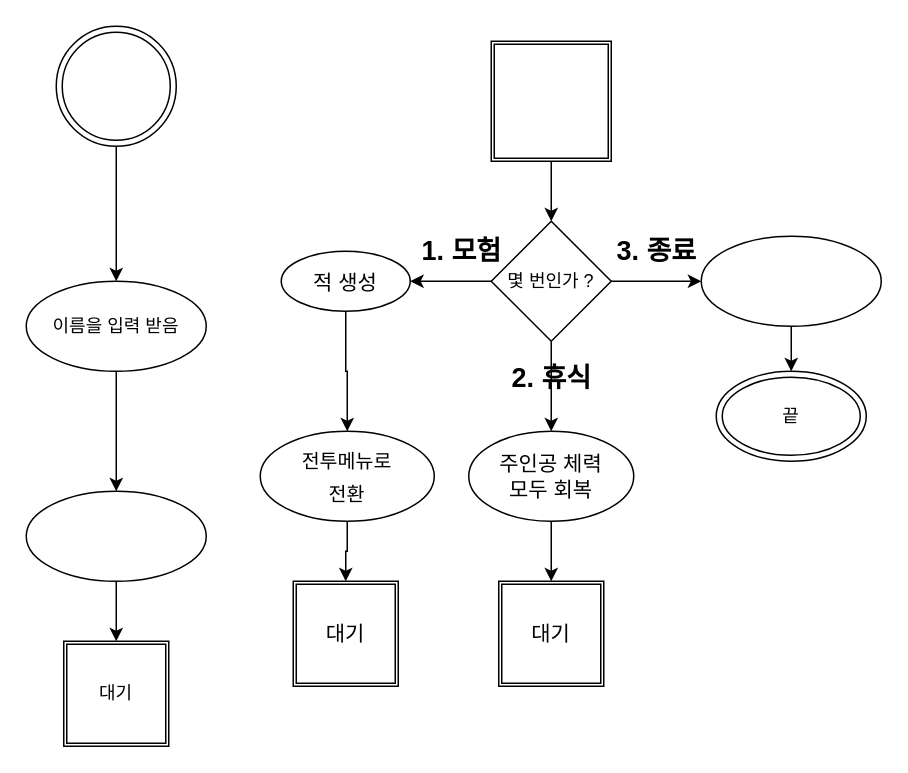
The diagram is 908 pixels wide and 773 high, and some of its shapes have lost their labels. The centre of each missing label's shape, as x and y in pixels:
메뉴 입력버튼 클릭: the point at 550,100
시작: the point at 115,85
주인공 생성: the point at 115,535
화면에 종료 안내 메시지 표시: the point at 790,280
